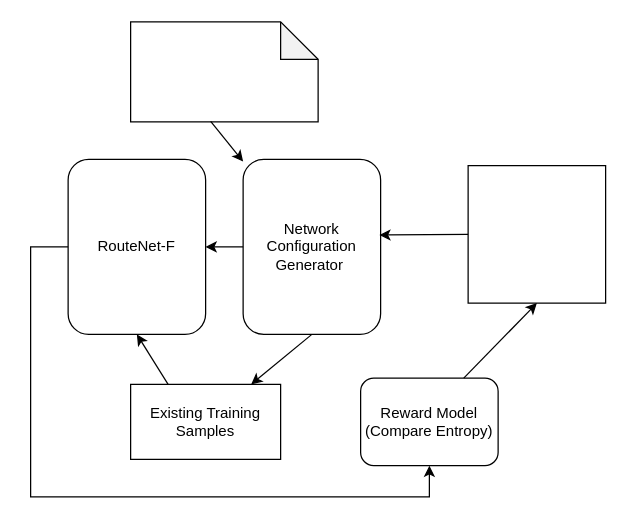
Some shapes in this 628 by 529 pixel diagram are drawn without their labels. The centre of each missing label's shape, as x and y in pixels:
"Existing Network Configurations" goes at point 223,71.
"Reinforcement Learning (PPO)" goes at point 536,233.
